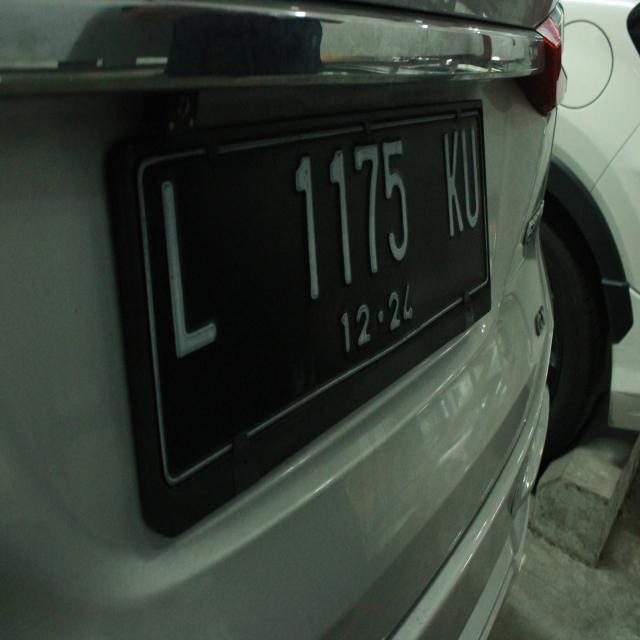1: (274, 150, 330, 309), (319, 142, 363, 290)
5: (376, 124, 418, 272)
7: (350, 133, 392, 278)
K: (438, 122, 471, 240)
L: (138, 166, 230, 362)
U: (458, 119, 488, 234)
